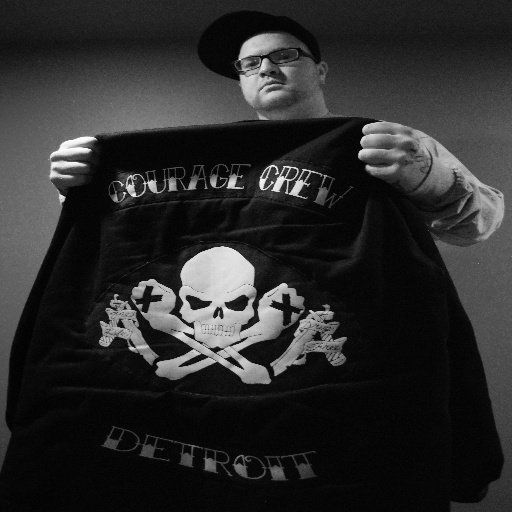hand: (357, 116, 475, 207), (50, 135, 98, 193)
